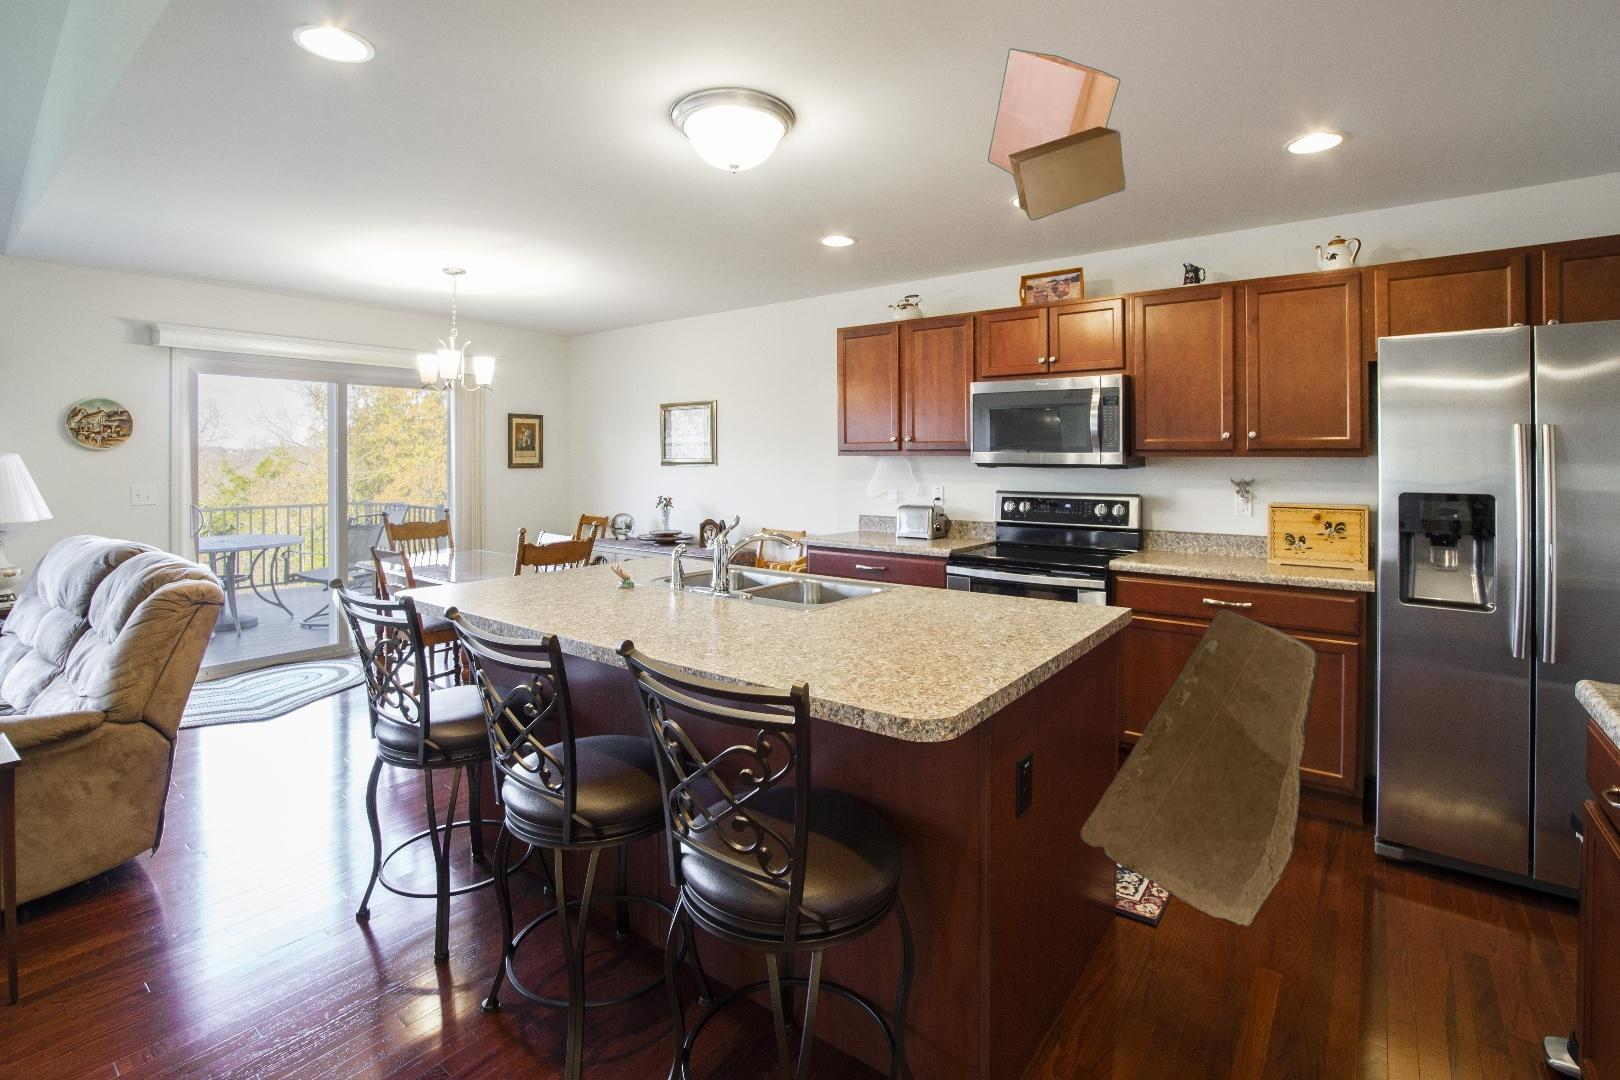paper: (1075, 605, 1322, 931)
paper-bag: (986, 46, 1127, 221)
